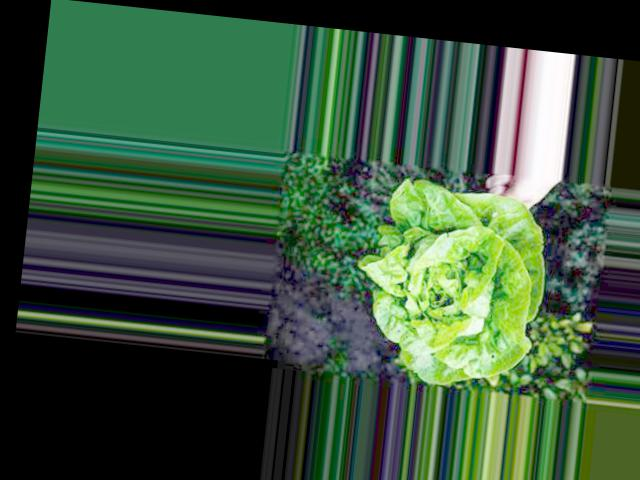lettuce: (380, 197, 536, 369)
